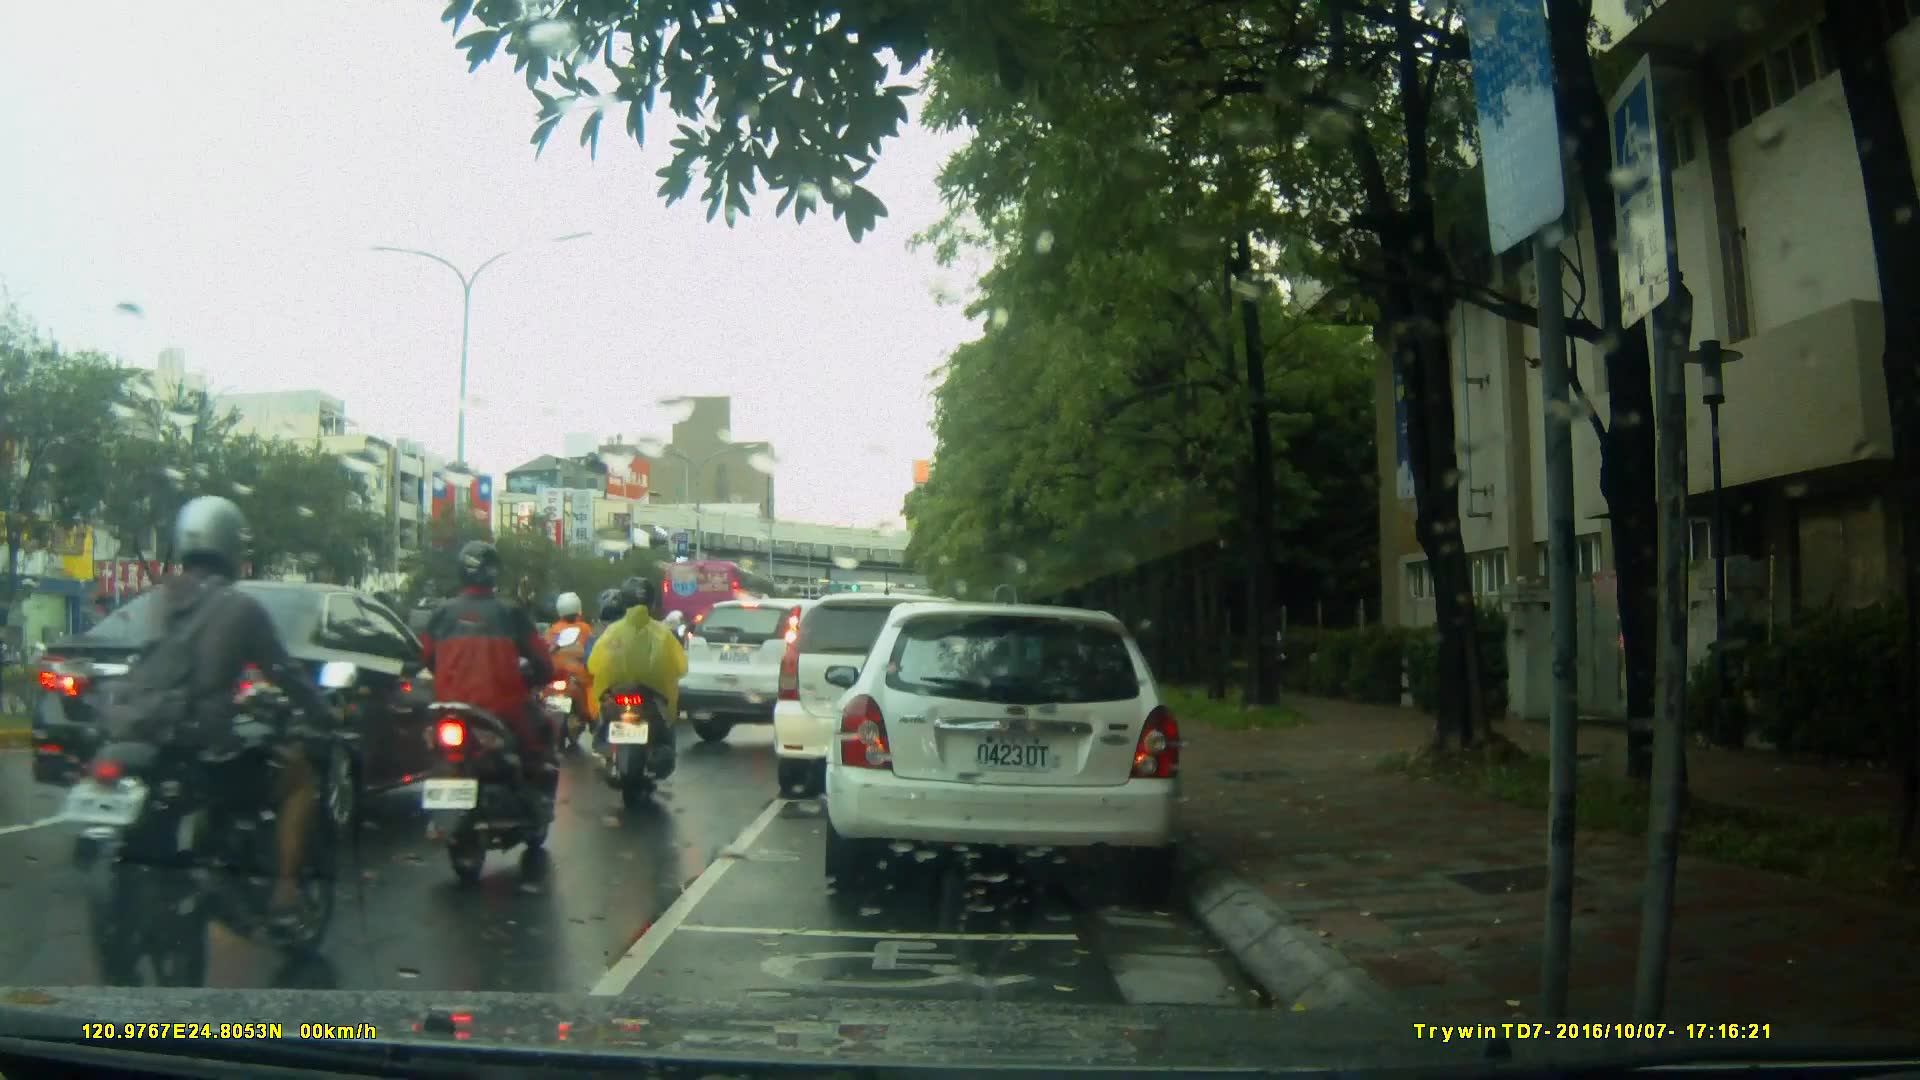rider: (57, 500, 371, 980), (427, 544, 581, 882), (588, 584, 695, 810), (586, 586, 660, 775), (538, 594, 602, 750)
vehicle: (24, 577, 479, 843), (835, 594, 1194, 898), (776, 590, 1026, 784), (674, 592, 911, 750), (659, 559, 777, 642)
